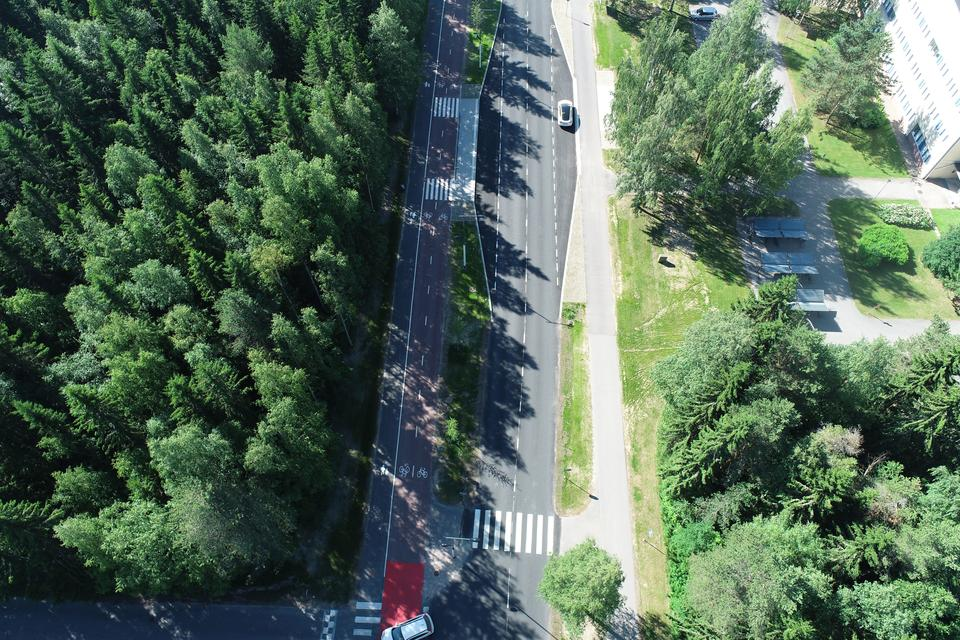intersection: (348, 482, 654, 579), (269, 590, 565, 640)
